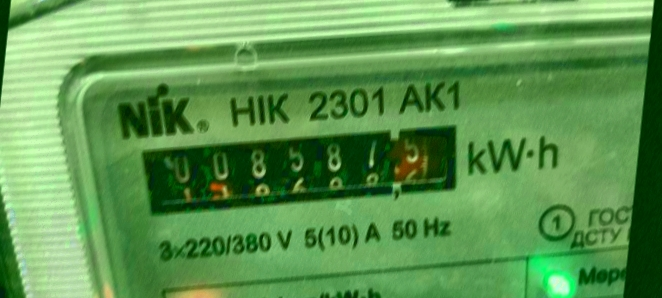0: (204, 145, 233, 181), (165, 149, 194, 183)
5: (281, 140, 307, 173), (397, 130, 422, 163)
6: (399, 165, 419, 184)
7: (357, 135, 382, 171)
8: (243, 145, 270, 179), (318, 138, 344, 173)
screen: (125, 91, 483, 249)
